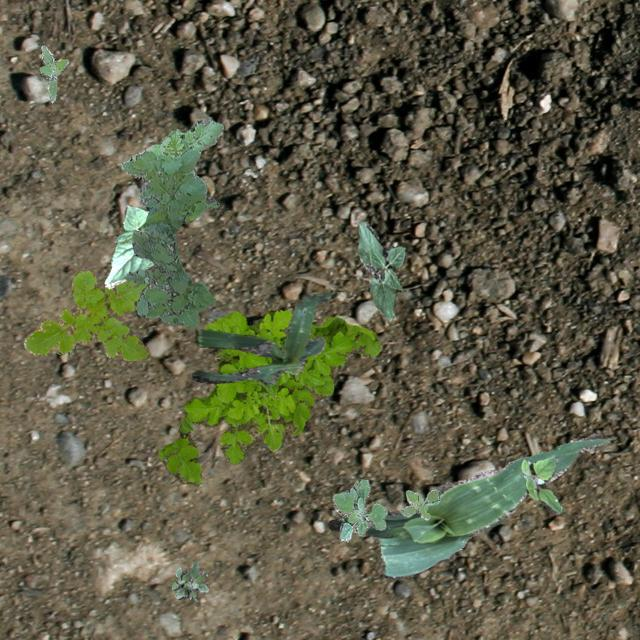crop: (328, 432, 612, 578), (191, 292, 333, 384), (356, 220, 404, 320), (104, 205, 152, 288)
weed: (157, 310, 380, 484), (120, 120, 222, 328), (22, 268, 148, 359), (332, 478, 386, 540), (520, 456, 560, 514), (38, 44, 68, 102), (170, 560, 208, 600), (401, 488, 438, 518)
